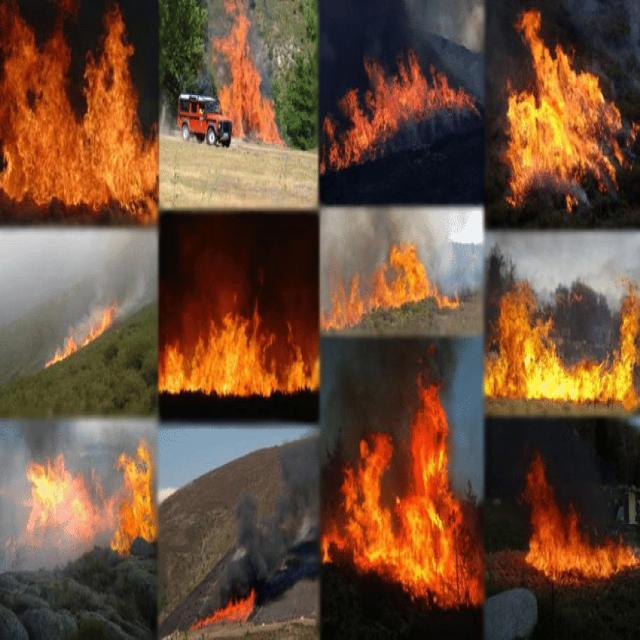Fire: (322, 393, 476, 604), (4, 18, 158, 228), (501, 10, 640, 224), (483, 269, 640, 409), (322, 50, 476, 174), (160, 304, 320, 407), (23, 436, 154, 548), (524, 462, 640, 584), (320, 250, 465, 322), (217, 10, 278, 144), (38, 302, 118, 374), (193, 584, 257, 624)
Smoke: (224, 480, 290, 596)
